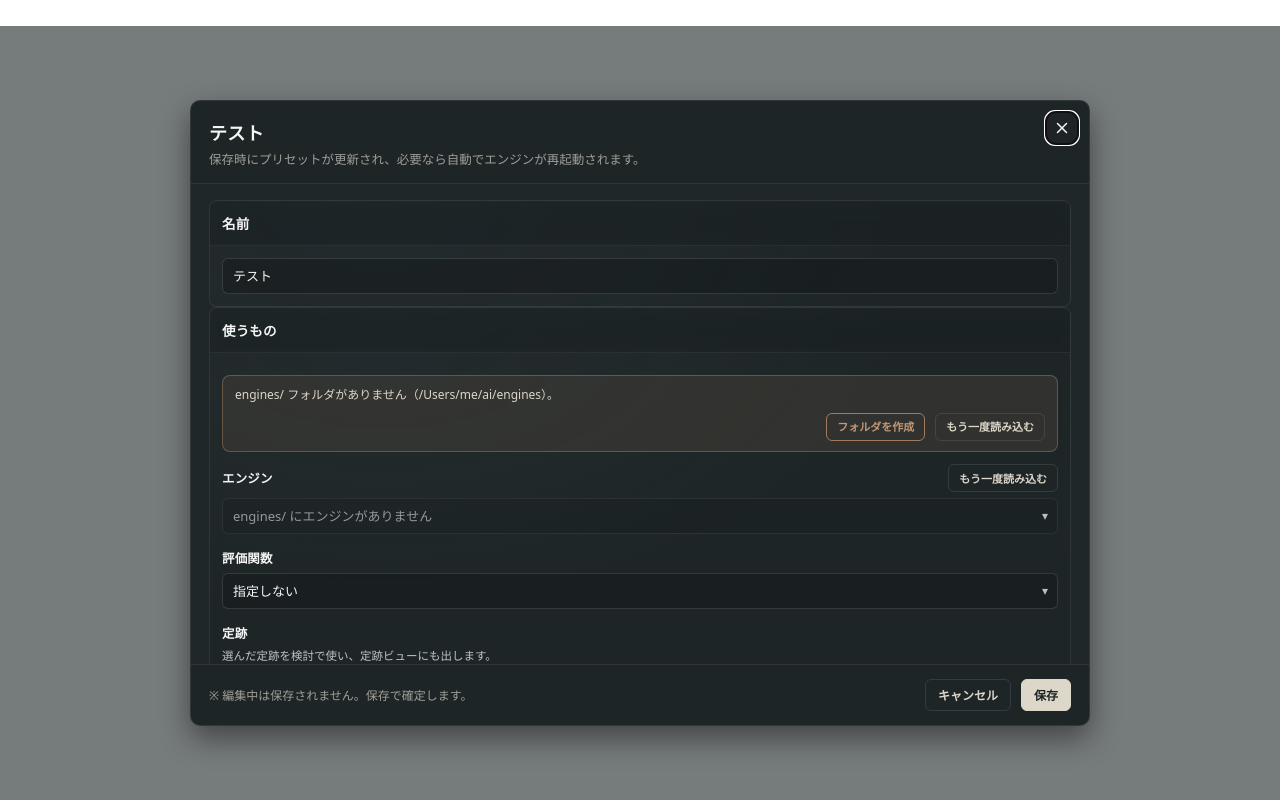
it: プリセット編集ダイアログの engines の帯 › 同じルートを読み直している間は、帯の作成だけ押せない
This screenshot has width=1280, height=800.
expect the element showing "engines/ フォルダがありません（/Users/me/ai/engines）。 フォルダを作成 もう一度読み込む" is shown: met, box x1=222 y1=374 x2=1058 y2=452
Note: 帯の中の「もう一度読み込む」。同じ名前のボタンはエンジンの欄にもある
Click the button with aria-label "AI ライブラリをもう一度読み込む".
click(990, 427)  # box x1=935 y1=413 x2=1045 y2=441
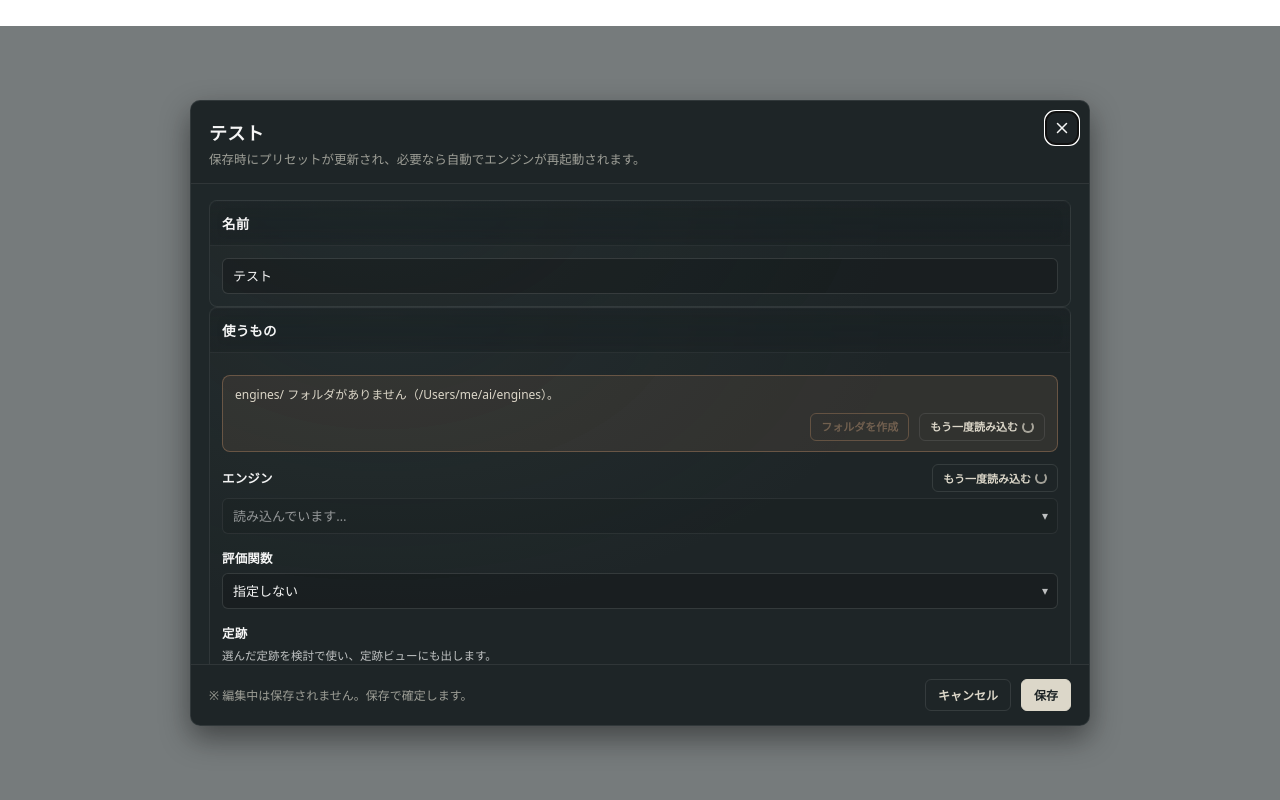
expect the button with aria-label "AI ライブラリをもう一度読み込む" is enabled: met, box x1=919 y1=413 x2=1045 y2=441
expect the button "フォルダを作成" is disabled: met, box x1=810 y1=413 x2=909 y2=441
